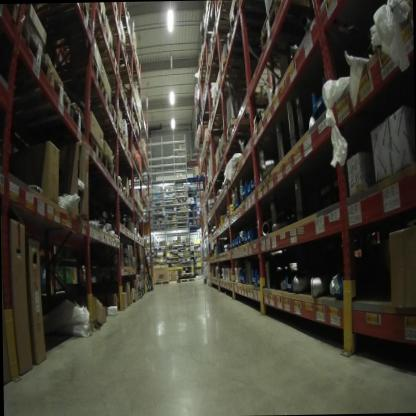pallet: (5, 91, 88, 149), (0, 63, 72, 124), (257, 1, 320, 61), (5, 17, 51, 82), (46, 2, 96, 38), (220, 57, 277, 84), (225, 31, 276, 61), (212, 75, 267, 101), (68, 58, 106, 93), (227, 0, 268, 32), (219, 142, 273, 165), (224, 115, 273, 137), (89, 46, 120, 80), (74, 27, 113, 54), (224, 128, 264, 151), (80, 134, 105, 168), (79, 88, 113, 112), (91, 105, 121, 128), (106, 40, 132, 66), (212, 94, 245, 114), (0, 5, 28, 28), (209, 110, 239, 130), (99, 135, 131, 153), (107, 146, 135, 166), (91, 125, 126, 140), (103, 158, 118, 187), (98, 27, 126, 42), (103, 3, 122, 25), (90, 3, 107, 27), (105, 75, 125, 95), (116, 64, 133, 85), (154, 278, 169, 288), (117, 179, 125, 197), (178, 275, 194, 284), (125, 188, 131, 203)
pallet_truck: (134, 252, 145, 297)
